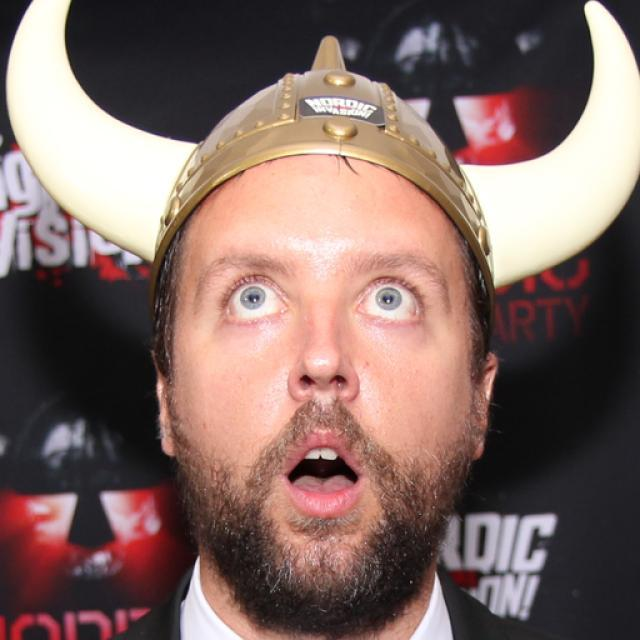surprise: (174, 158, 474, 614)
